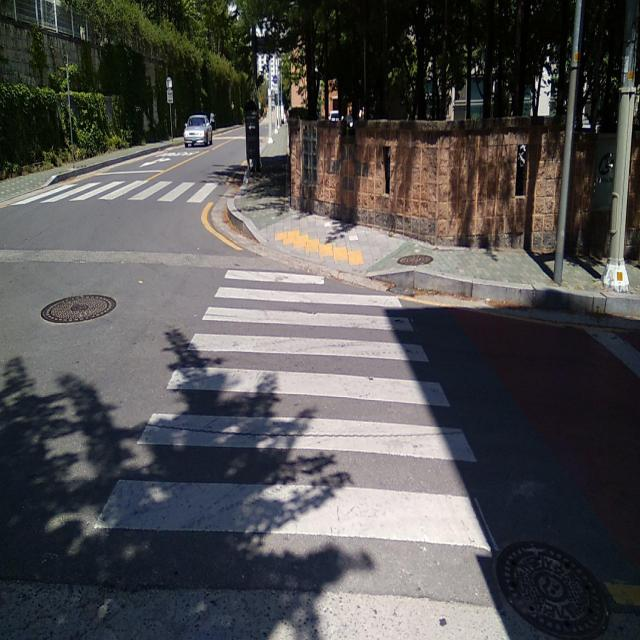횡단보도: (93, 265, 500, 557), (9, 182, 222, 204)
